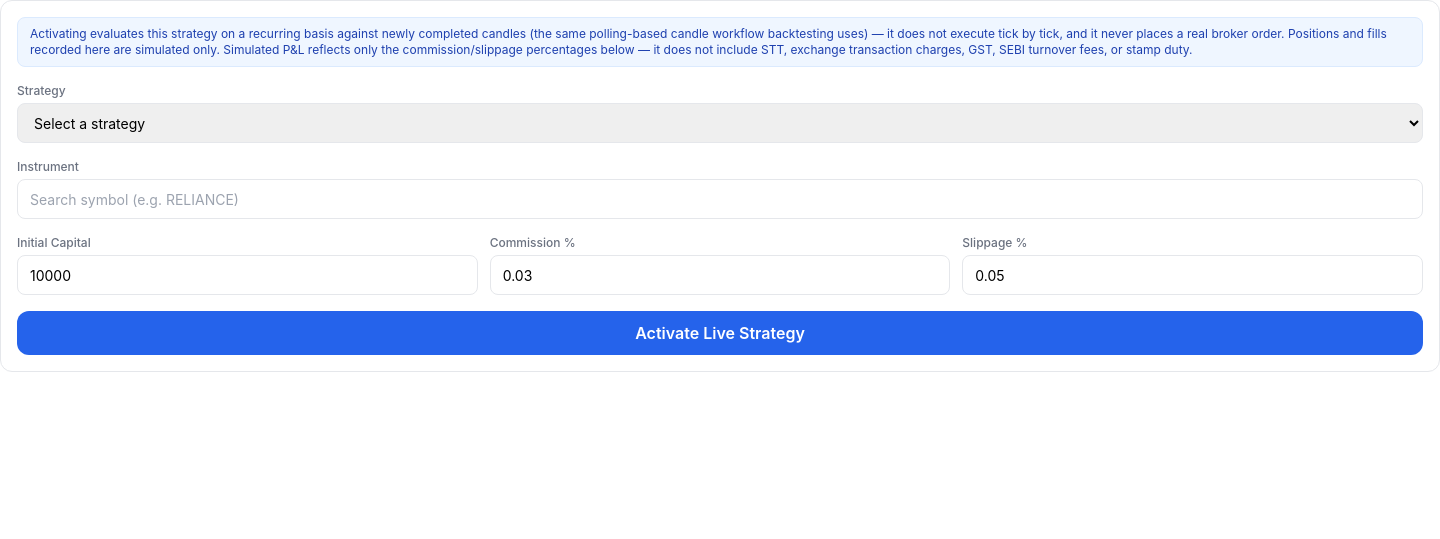
Test: LiveActivationForm › a duplicate-activation 409 conflict surfaces the backend's own message verbatim
Select "RSI Mean Reversion" in the dropdown showing "Select a strategy". click: (720, 123)
box: [17,103,1423,143]
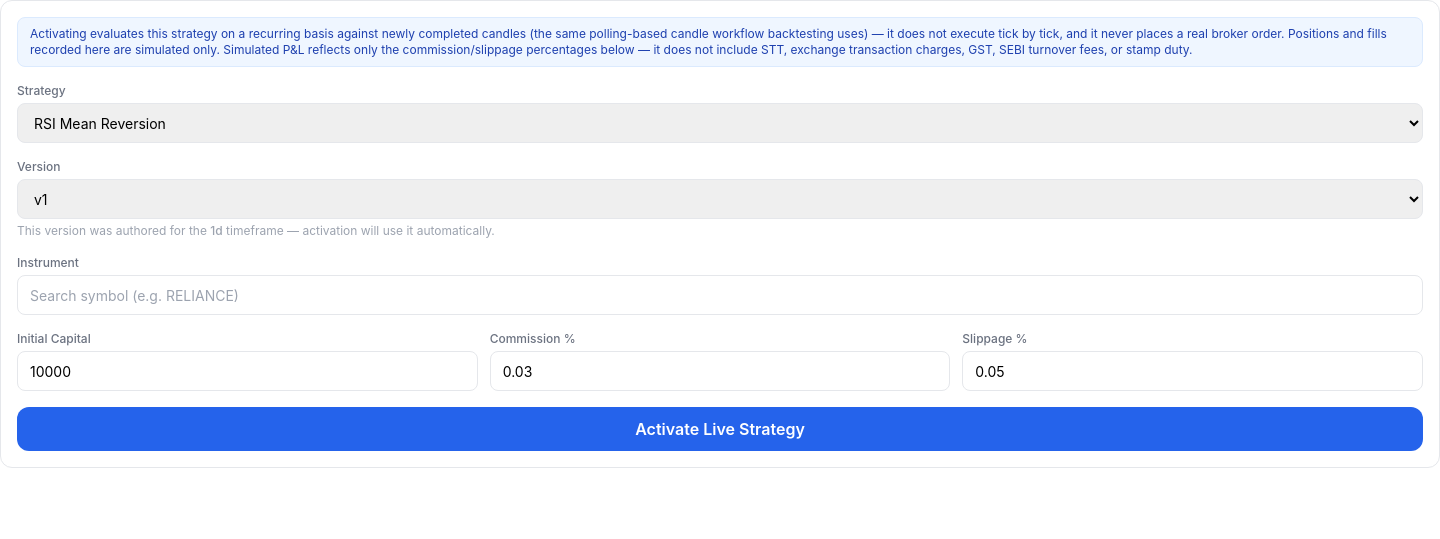
Now the text "authored for the" is shown, box [17,223,210,238]
Type "RELIANCE" into the field with placeholder "Search symbol (e.g. RELIANCE)". click: (720, 295)
box: [17,275,1423,315]
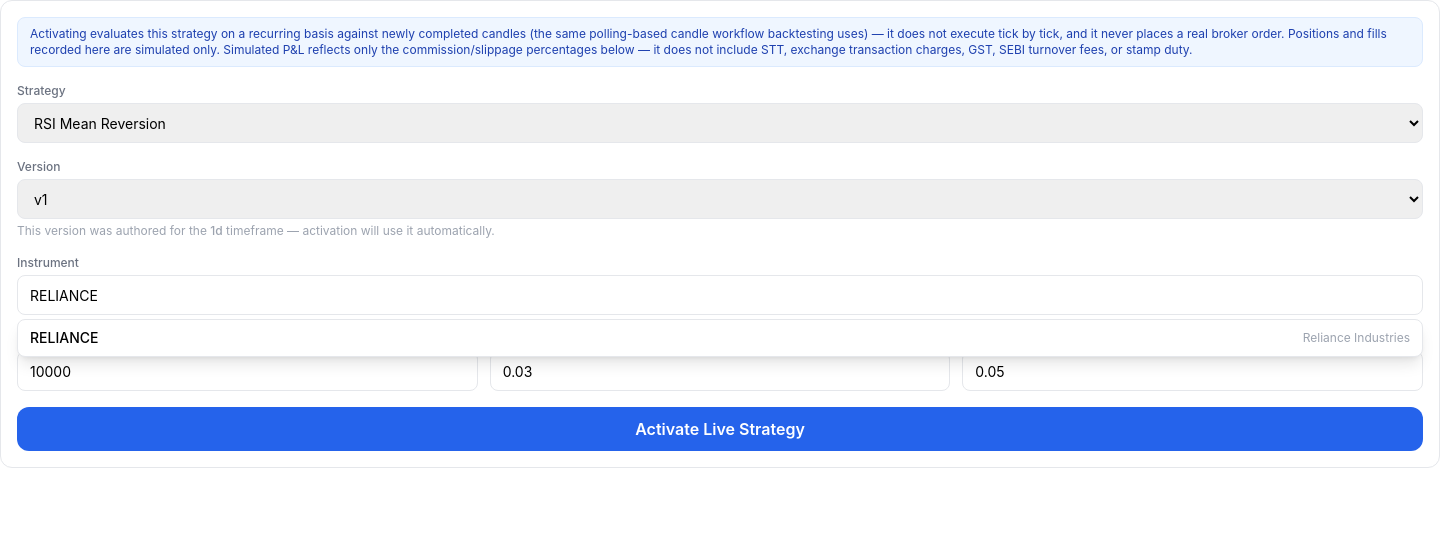
Now the text "RELIANCE" is shown
Click the text "RELIANCE". click: (64, 338)
box: [30,328,98,348]
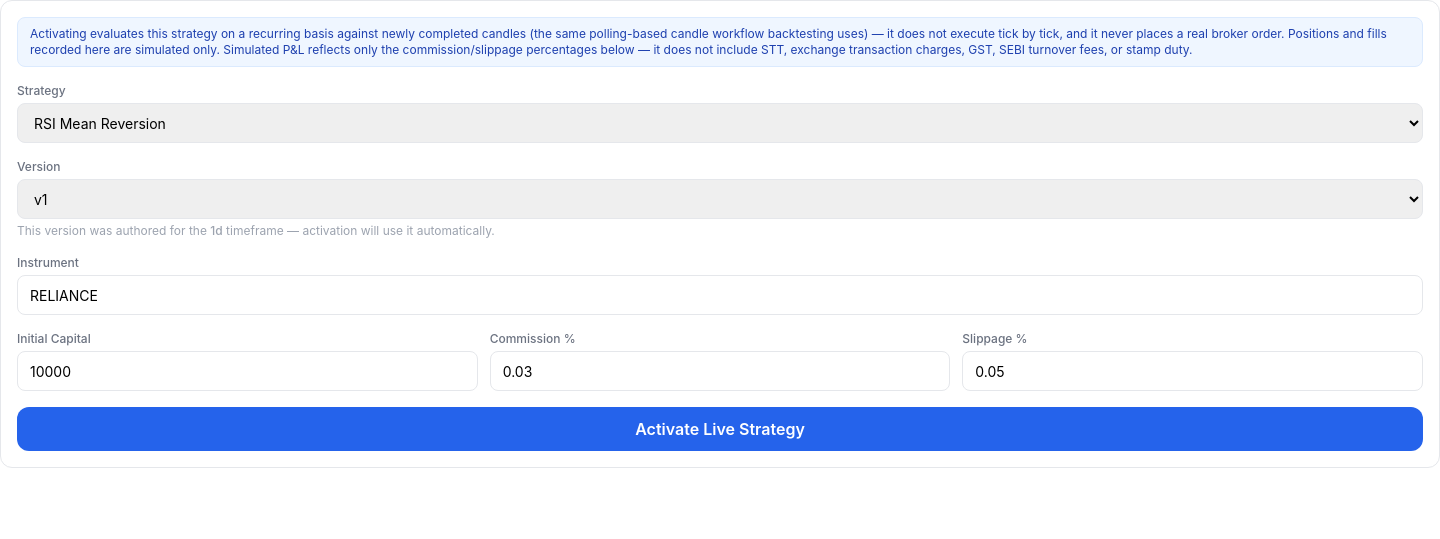
Click the button "Activate Live Strategy". click: (720, 429)
box: [17,407,1423,451]
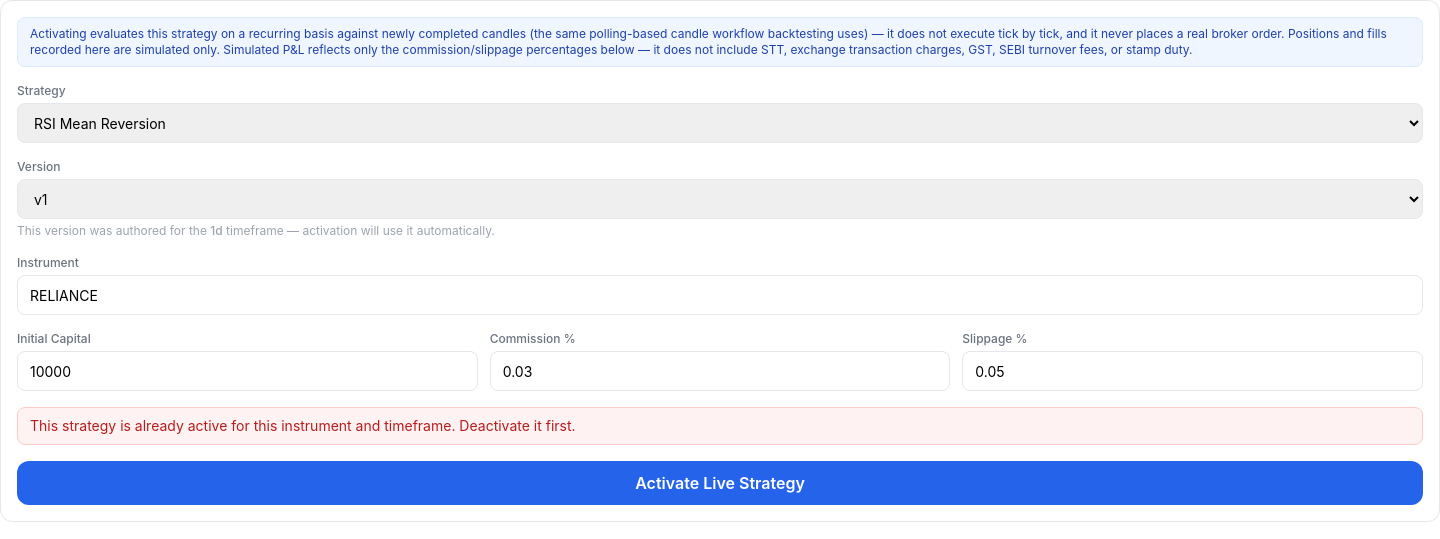
Now the text "This strategy is already active for this instrument and timeframe. Deactivate it first." is shown, box [30,417,576,434]
